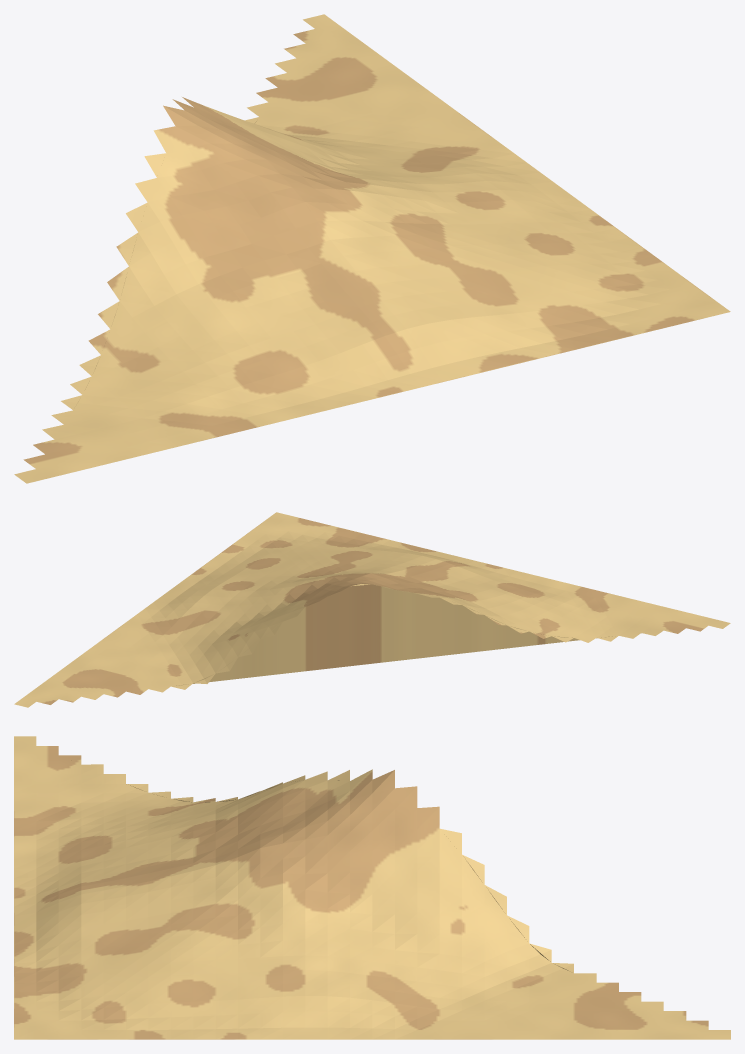
The model's file is Desert_Mountains_03_NE.obj.
3 renders of one model, top to bottom at view 1: azimuth 30°, elevation 25°; view 2: azimuth 150°, elevation 25°; view 3: azimuth 270°, elevation 25°, orthographic. The views are drawn at different scales.
Size of the model in its own units: 10 by 1.82 by 10.
Materials: 1 (1 with a texture image).
